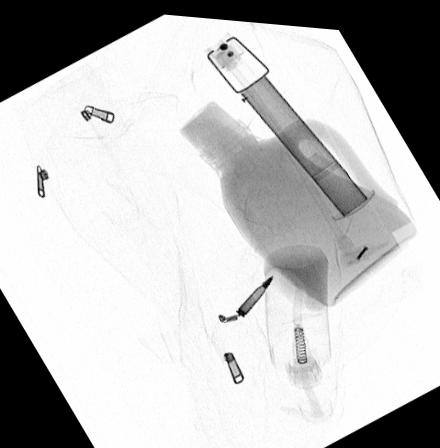Bullet: (235, 269, 275, 312)
